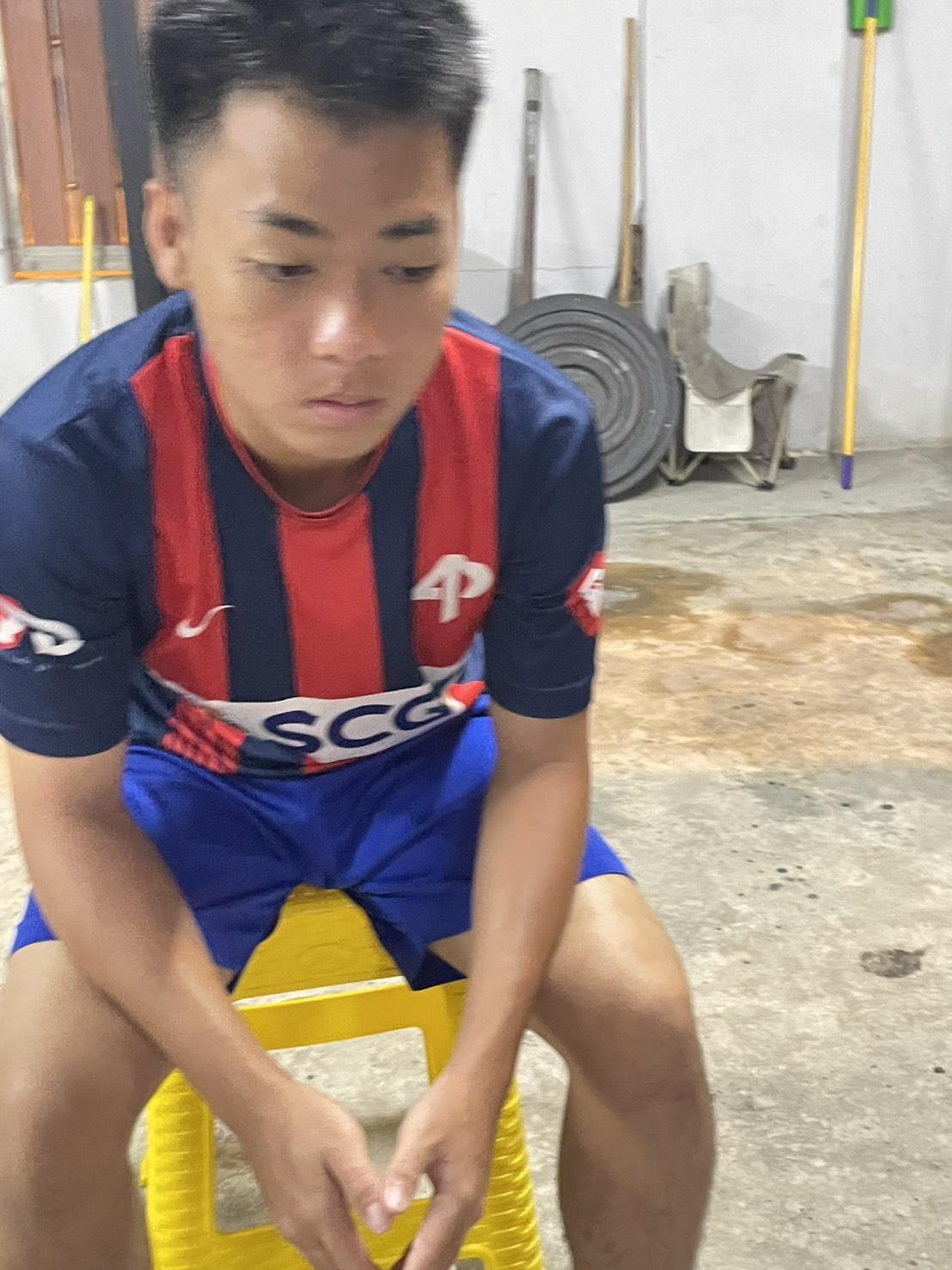BadPosture: (0, 0, 603, 986), (0, 0, 606, 778)
